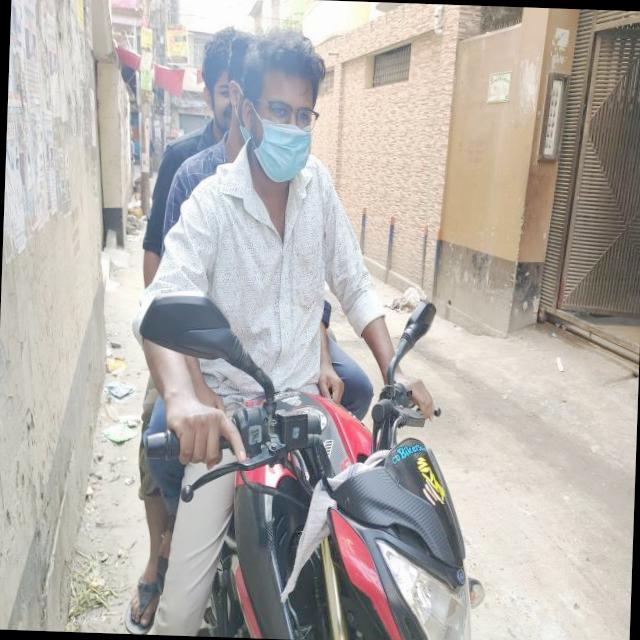motorcycle: (117, 333, 484, 640)
person: (222, 26, 340, 418), (192, 28, 294, 474), (154, 14, 260, 387)
